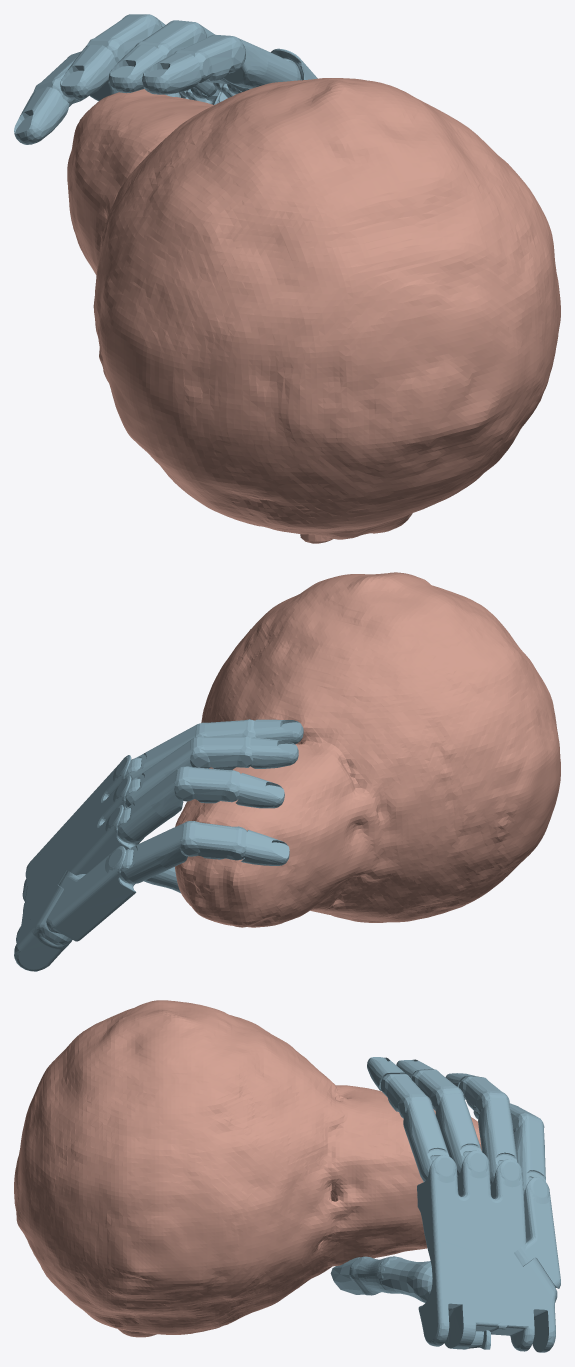
Rendered from 12_joint.glb.
3 views of the same model, one above another, from view 1: azimuth 30°, elevation 25°; view 2: azimuth 150°, elevation 25°; view 3: azimuth 270°, elevation 25° (orthographic). The views are drawn at different scales.
Visible parts, largest first — view 1: world; view 2: world; view 3: world.
Boxes of the visible parts, bbox=[...] form: world: bbox=[14, 14, 560, 543]; world: bbox=[14, 572, 560, 971]; world: bbox=[14, 1000, 560, 1352].
Bounding box in the file's own units: 1.58 × 1.38 × 2.13.
